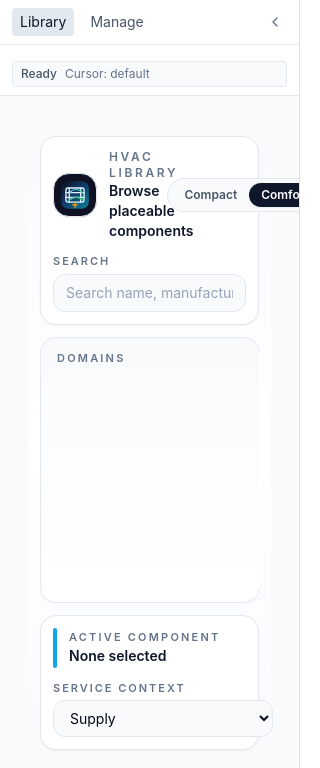
Test: Canvas LeftSidebar Tabs › switches to Manage tab
Click the tab with test id "tab-manage": coordinates (117, 22) [82, 8, 152, 36]
(page scrolled)
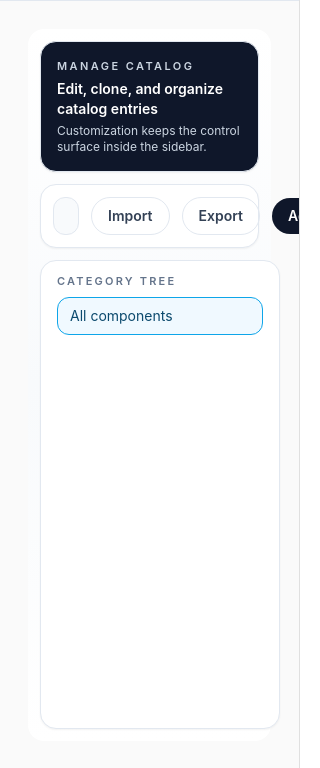
Check: the panel with test id "manage-panel" is shown
